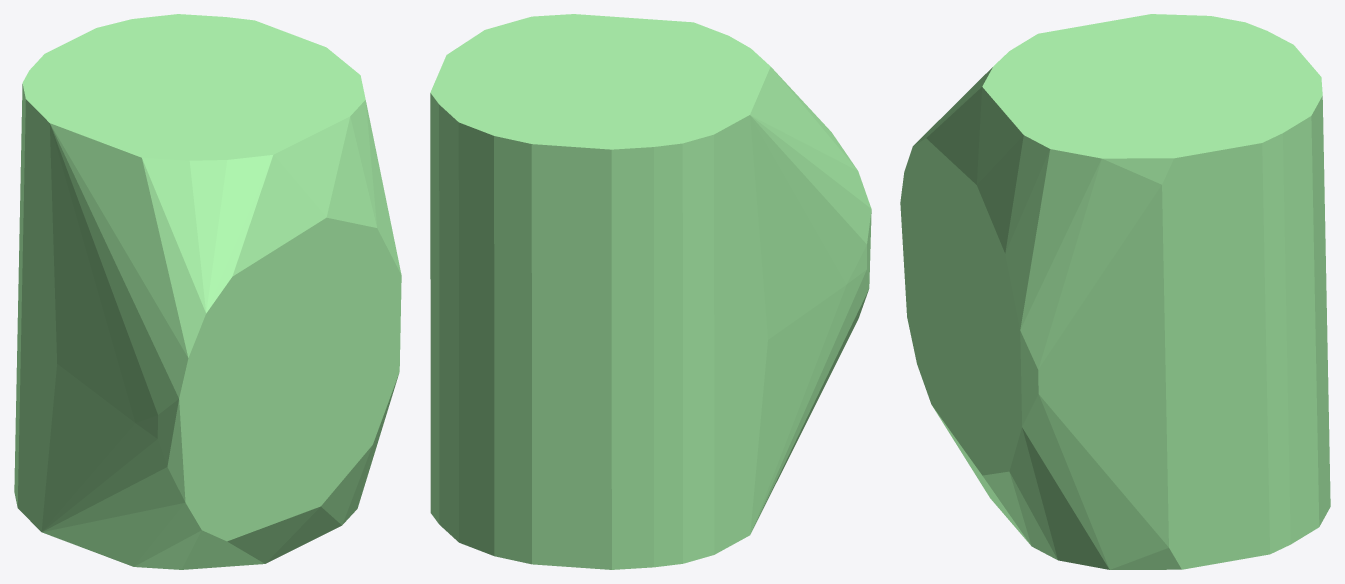
The model's file is dvkr_robot_L_link2_respondable_coll_3.dae.
3 renders of one model, left to right at view 1: azimuth 30°, elevation 25°; view 2: azimuth 150°, elevation 25°; view 3: azimuth 270°, elevation 25°, orthographic.
Visible parts, largest first — view 1: Node_0000023515114AE0; view 2: Node_0000023515114AE0; view 3: Node_0000023515114AE0.
Part boxes in pixels (x1=…): Node_0000023515114AE0: x1=14, y1=14, x2=401, y2=569; Node_0000023515114AE0: x1=430, y1=14, x2=871, y2=569; Node_0000023515114AE0: x1=900, y1=14, x2=1330, y2=569.
Bounding box in the file's own units: 0.133 × 0.1777 × 0.1651.
